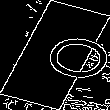O_W: (11, 26, 99, 84)
